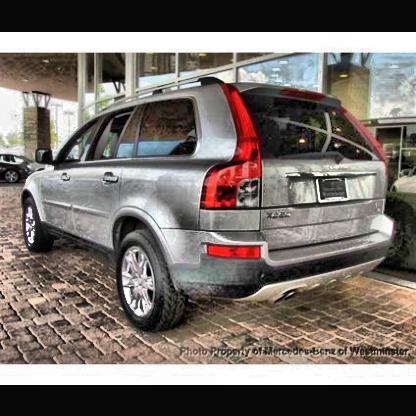Volvo XC90 SUV 2007: (19, 76, 397, 333)
